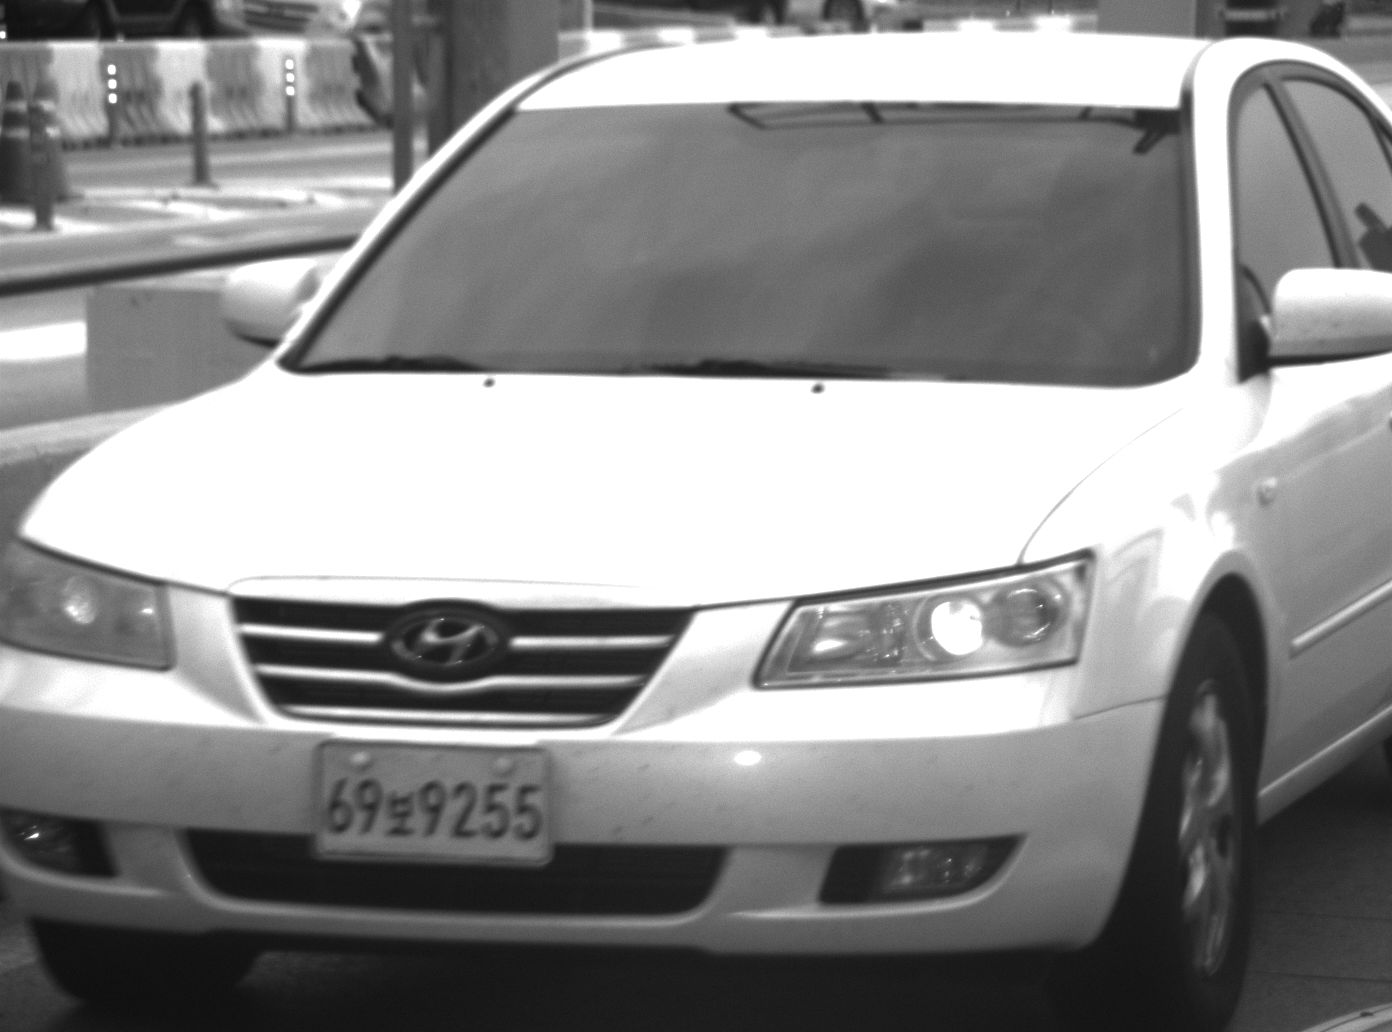car: (2, 27, 1392, 1032)
plate: (309, 742, 554, 861)
